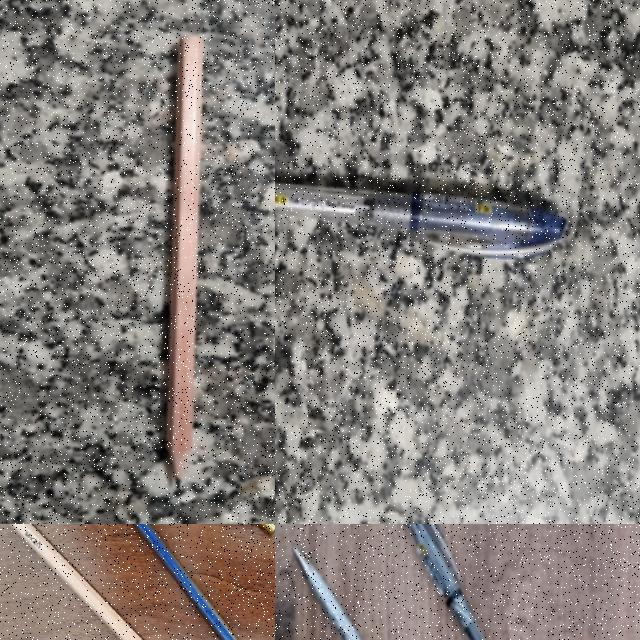pen: (275, 181, 566, 260), (404, 524, 490, 640)
pencil: (167, 37, 202, 484), (11, 524, 144, 640), (135, 524, 239, 640)
signature pen: (294, 548, 364, 640)
